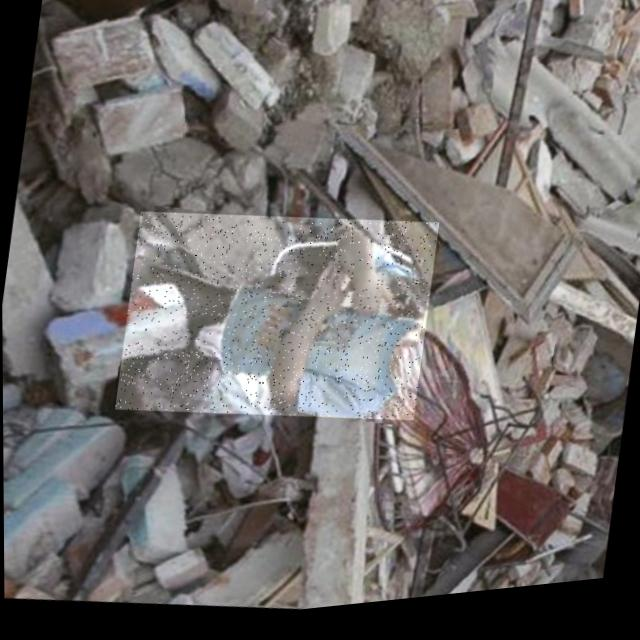Person in Rubble: (112, 190, 439, 454)
